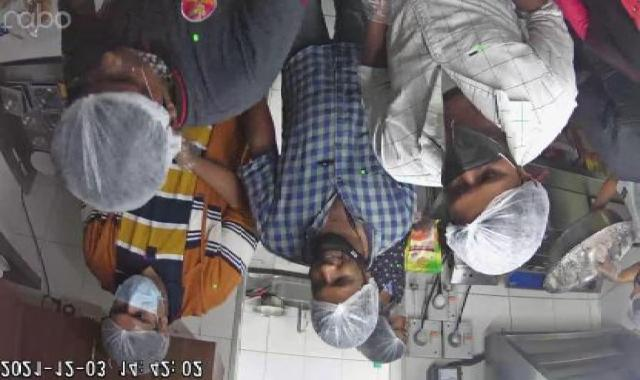hairnet: (52, 90, 192, 214), (437, 175, 565, 274), (294, 283, 387, 352), (84, 315, 179, 372)
